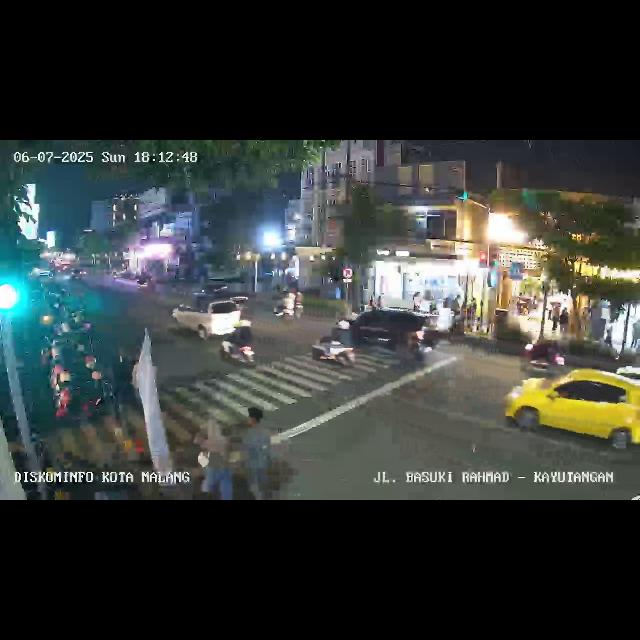car: (504, 366, 640, 456), (342, 307, 432, 353), (170, 296, 248, 340)
motorcycle: (311, 321, 357, 374), (219, 317, 257, 368), (522, 335, 566, 375), (272, 288, 298, 322)
person: (232, 404, 280, 498), (190, 415, 224, 499), (630, 318, 640, 350), (549, 302, 559, 332), (560, 304, 570, 334), (450, 292, 462, 316), (604, 322, 614, 350), (412, 291, 422, 313), (374, 292, 382, 310)
